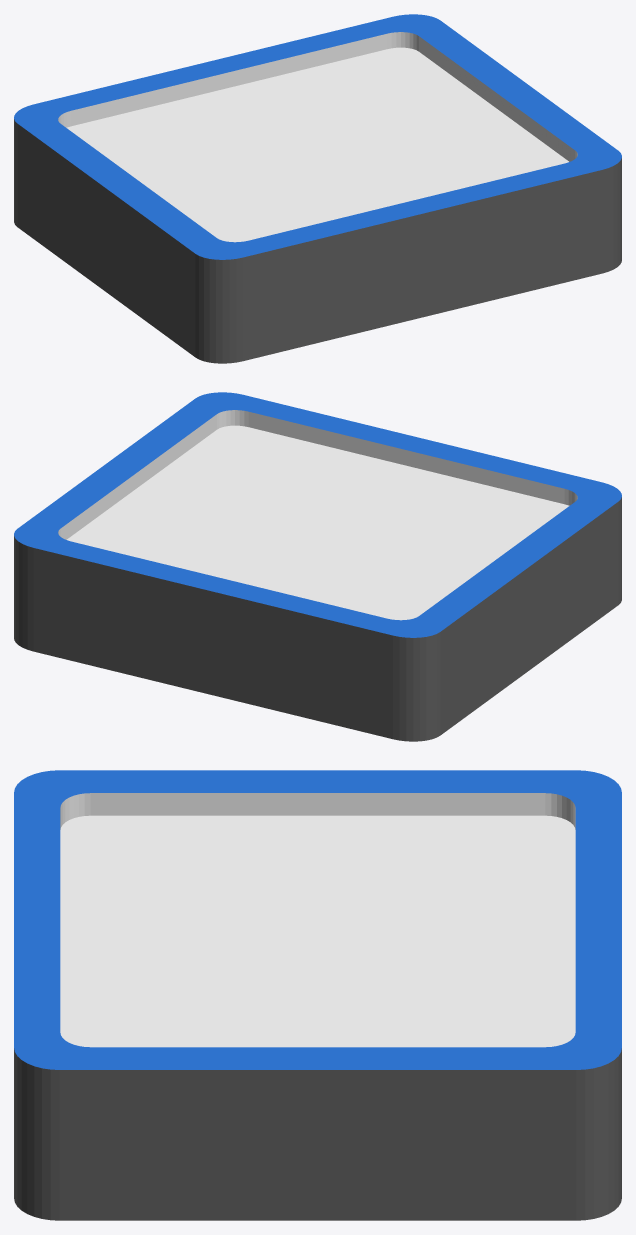
The model's file is robotarium.dae.
The picture shows the model from 3 angles, top to bottom: view 1: azimuth 30°, elevation 25°; view 2: azimuth 150°, elevation 25°; view 3: azimuth 270°, elevation 25°; orthographic projection. The views are drawn at different scales.
Parts seen in each view (by area): view 1: Robotarium; view 2: Robotarium; view 3: Robotarium.
Boxes of the visible parts, x1,y1,x2,y2 form: Robotarium: [14, 14, 621, 363]; Robotarium: [14, 392, 621, 741]; Robotarium: [14, 770, 621, 1220].
Size of the model in its own units: 4.27 by 3.66 by 1.
